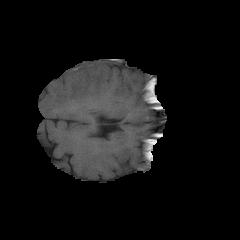glioma: (43, 65, 111, 112)
